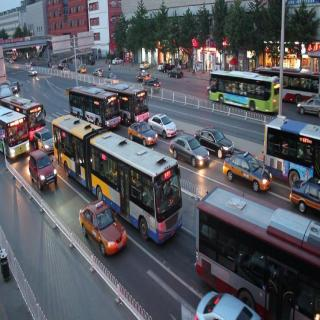BigCar: (206, 164, 320, 320), (54, 108, 184, 226), (199, 64, 278, 127), (101, 76, 149, 123), (72, 80, 119, 126)
Car: (85, 189, 120, 270), (196, 278, 253, 320), (218, 157, 270, 186), (174, 132, 206, 168)
